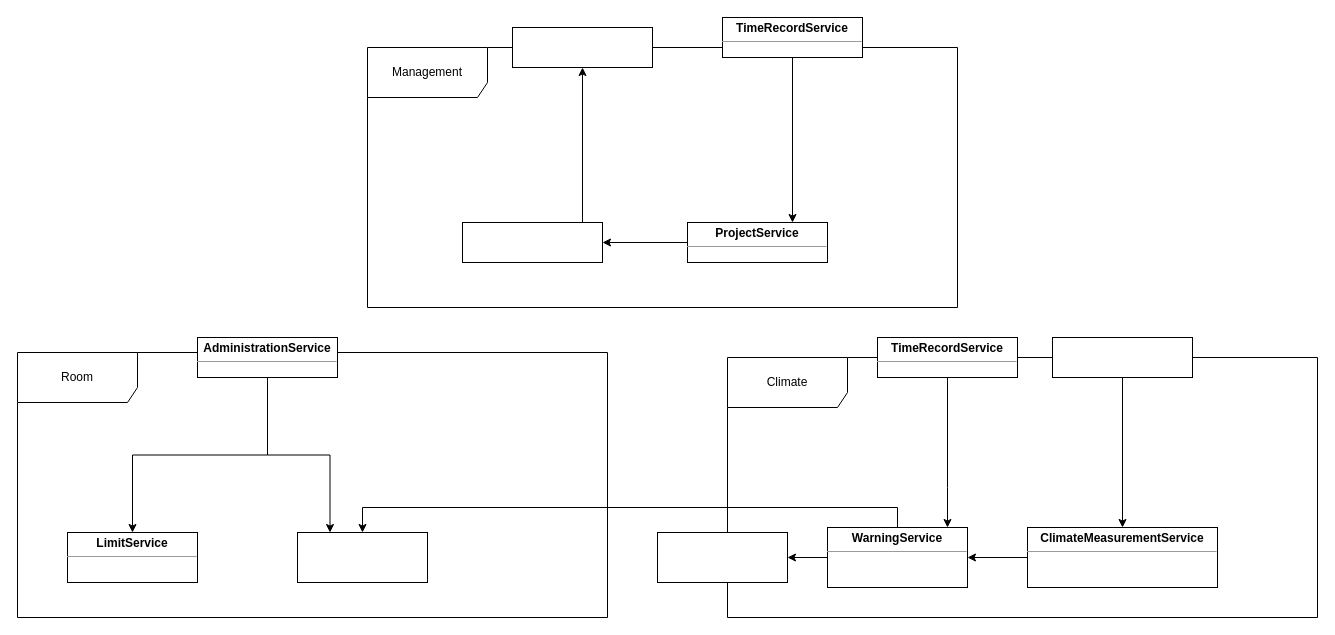
This 1335x635 diagram has some shape labels left out. Each missing label, with the centre of its shape:
"GroupService" belongs at [532,242].
"NotificationService" belongs at [722,557].
"RoomService" belongs at [362,557].
"TemperaDeviceService" belongs at [1122,357].
"UserService" belongs at [582,47].
